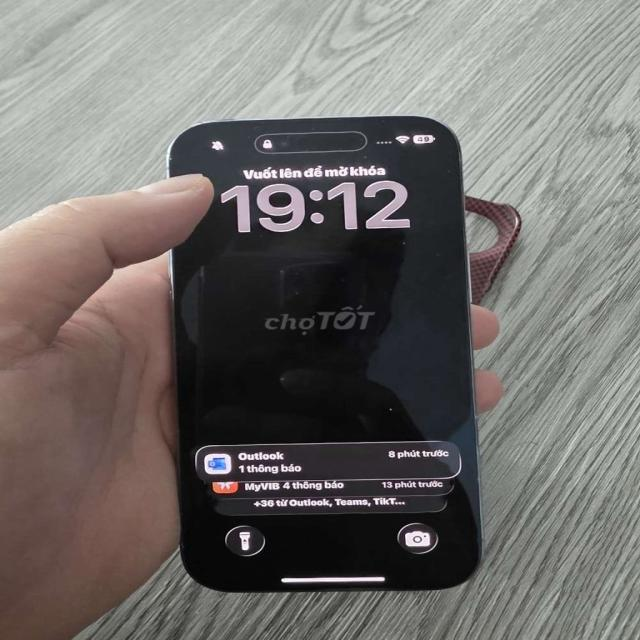gen_17: (166, 111, 510, 607)
